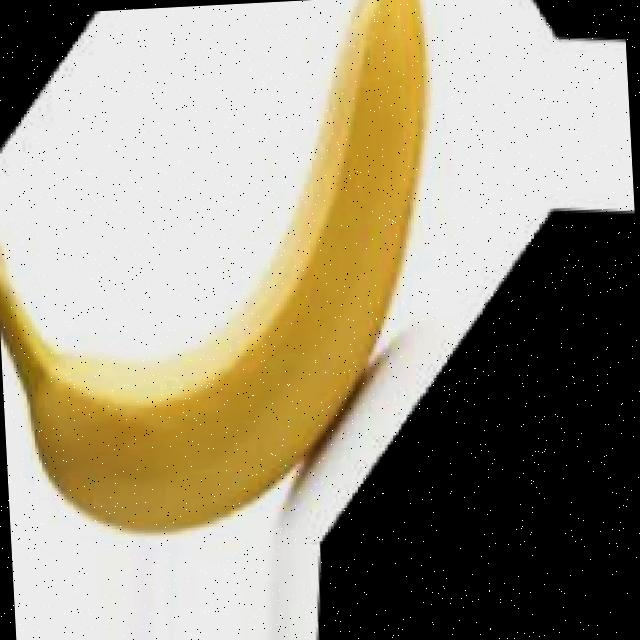banana: (0, 0, 449, 534)
